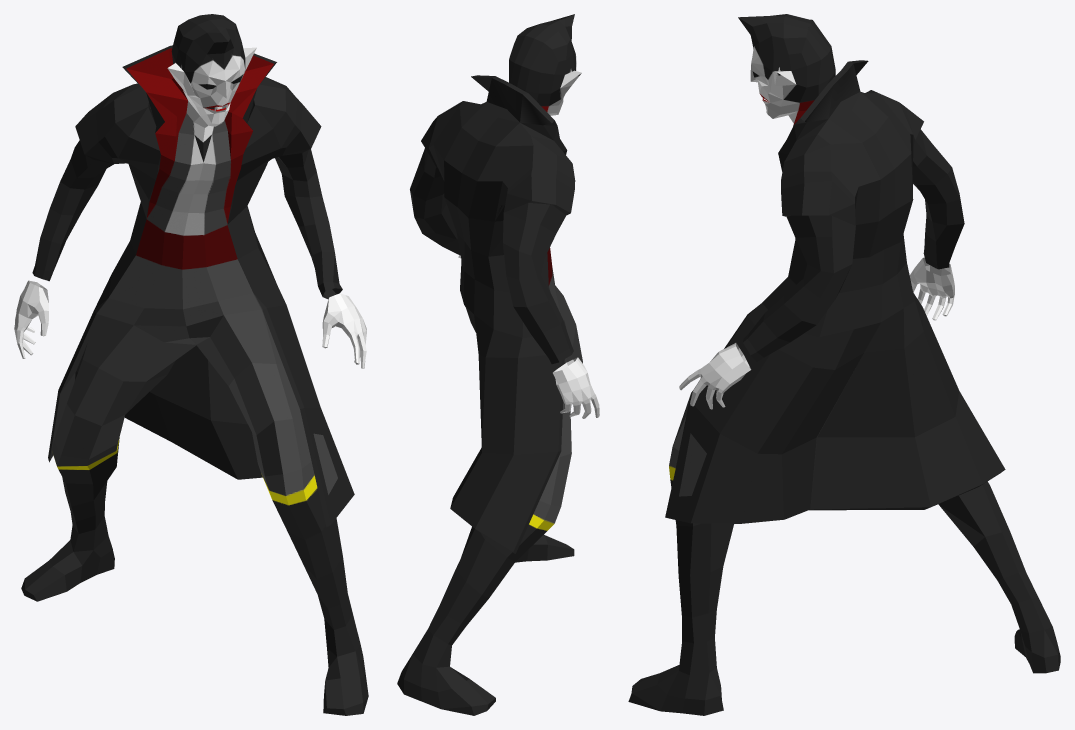
The model's file is VampireIdle(98).obj.
3 renders of one model, left to right at view 1: azimuth 30°, elevation 25°; view 2: azimuth 150°, elevation 25°; view 3: azimuth 270°, elevation 25°, orthographic. The views are drawn at different scales.
Parts seen in each view (by area): view 1: Plane002; view 2: Plane002; view 3: Plane002.
Part boxes in pixels (left/top/right/bottom): Plane002: left=14, top=14, right=368, bottom=715; Plane002: left=397, top=14, right=599, bottom=715; Plane002: left=628, top=14, right=1060, bottom=715.
Size of the model in its own units: 124 by 306 by 185.
